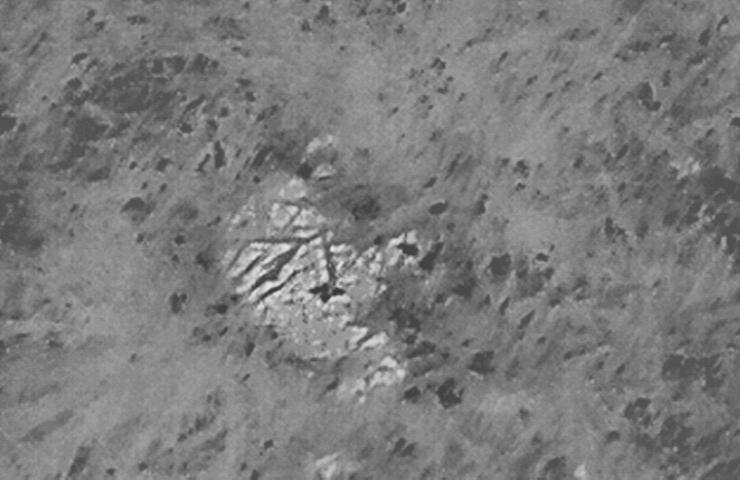landmines: (233, 171, 426, 391)
